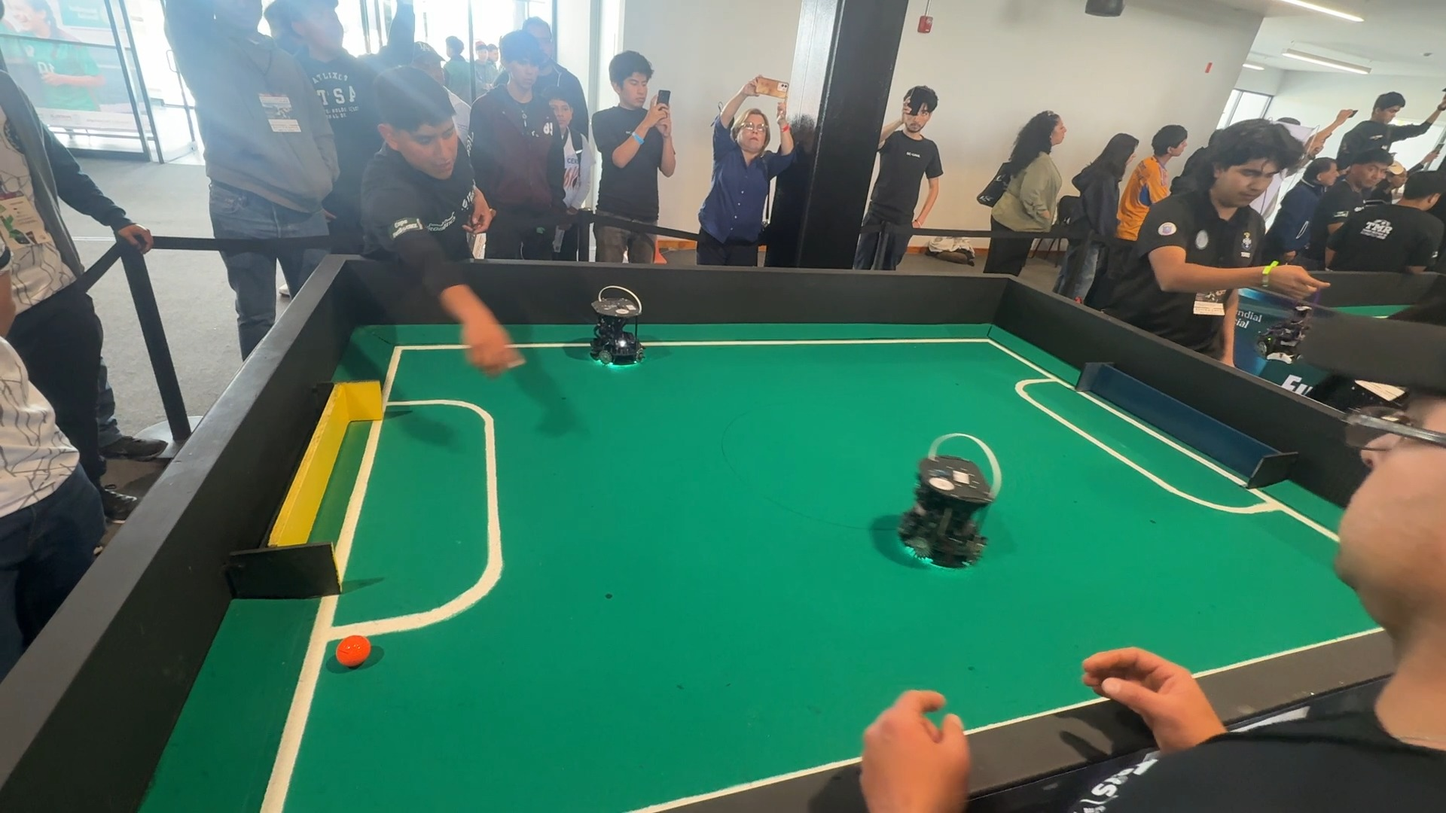Robot: (870, 430, 1029, 591), (575, 283, 664, 378)
pelota: (329, 633, 381, 676)
